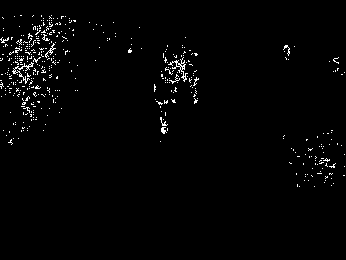person: (154, 67, 177, 133)
